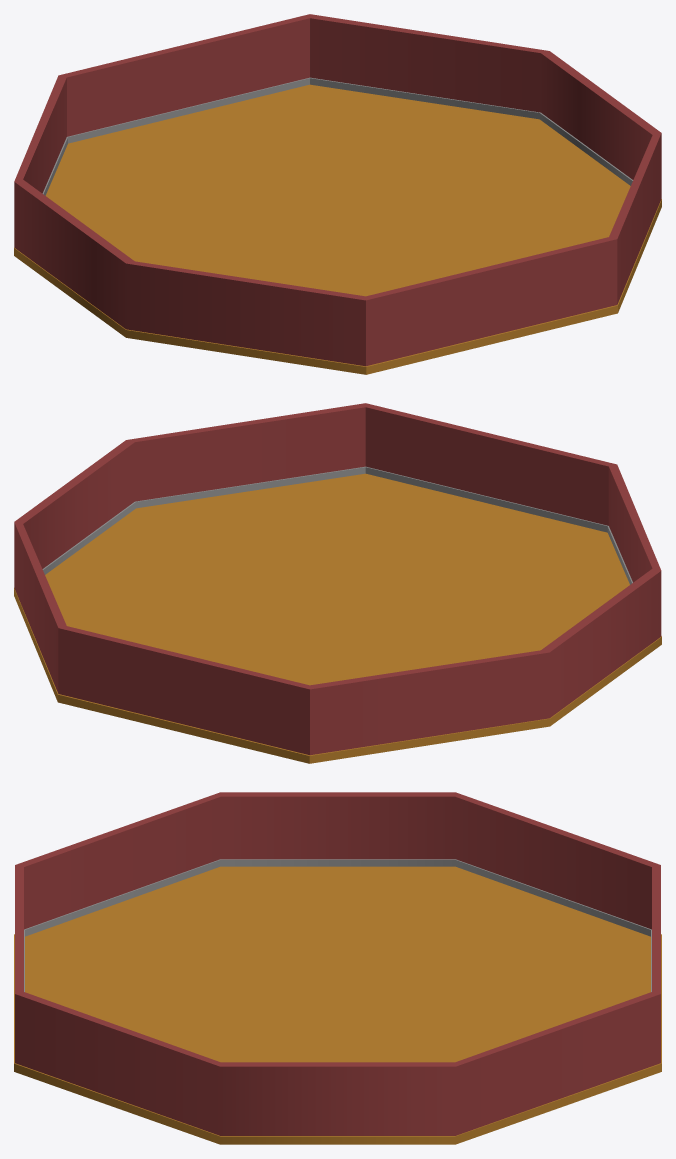
File: weiqiang2.fbx
3 renders of one model, top to bottom at view 1: azimuth 30°, elevation 25°; view 2: azimuth 150°, elevation 25°; view 3: azimuth 270°, elevation 25°, orthographic. The views are drawn at different scales.
Parts seen in each view (by area): view 1: 图形001, Level_11_walls_Environment_03_walls_wall_26_0; view 2: 图形001, Level_11_walls_Environment_03_walls_wall_26_0; view 3: 图形001, Level_11_walls_Environment_03_walls_wall_26_0.
Part boxes in pixels (left/top/right/bottom): 图形001: left=14, top=84, right=661, bottom=374; Level_11_walls_Environment_03_walls_wall_26_0: left=14, top=14, right=661, bottom=366; 图形001: left=14, top=473, right=661, bottom=763; Level_11_walls_Environment_03_walls_wall_26_0: left=14, top=403, right=661, bottom=755; 图形001: left=14, top=866, right=661, bottom=1144; Level_11_walls_Environment_03_walls_wall_26_0: left=15, top=792, right=660, bottom=1135.
Size of the model in its own units: 3097 by 409 by 3085.
